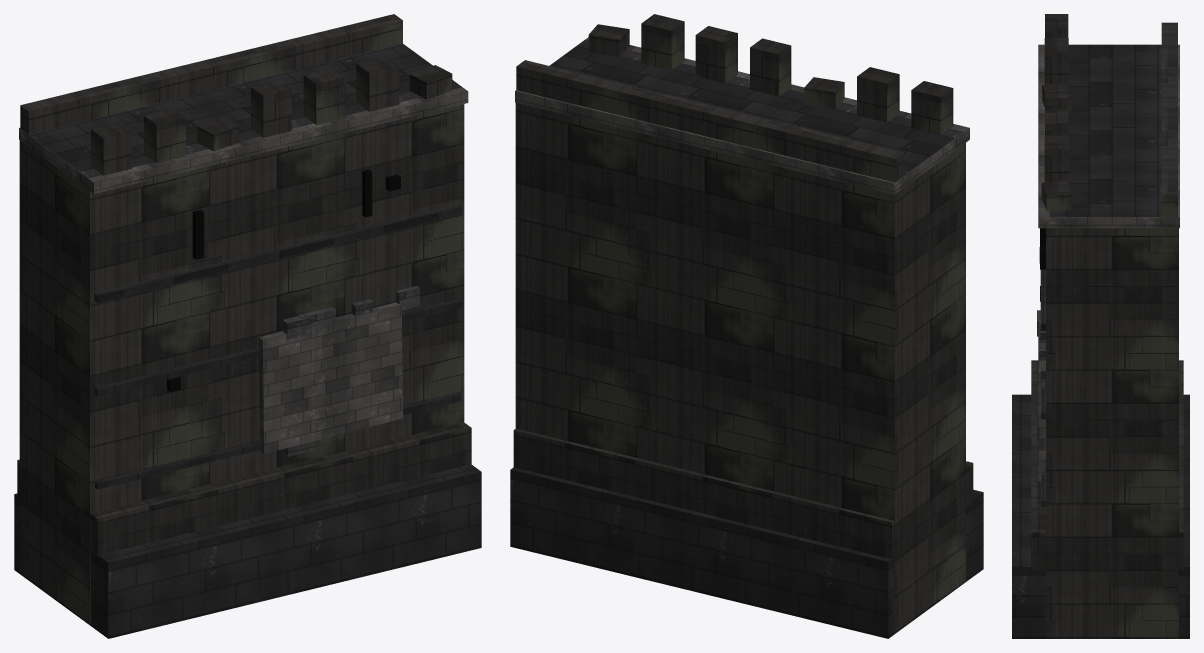
Rendered from TramoRemendado.gltf.
The picture shows the model from 3 angles, left to right: view 1: azimuth 30°, elevation 25°; view 2: azimuth 150°, elevation 25°; view 3: azimuth 270°, elevation 25°; orthographic projection. The views are drawn at different scales.
Visible parts, largest first — view 1: TramoRemendado; view 2: TramoRemendado; view 3: TramoRemendado.
Part boxes in pixels (x1,y1,x2,y2): TramoRemendado: (14, 14, 481, 638); TramoRemendado: (510, 14, 983, 638); TramoRemendado: (1012, 14, 1189, 638).
Size of the model in its own units: 12.47 by 15.52 by 5.42.
5 materials, 4 textured.
